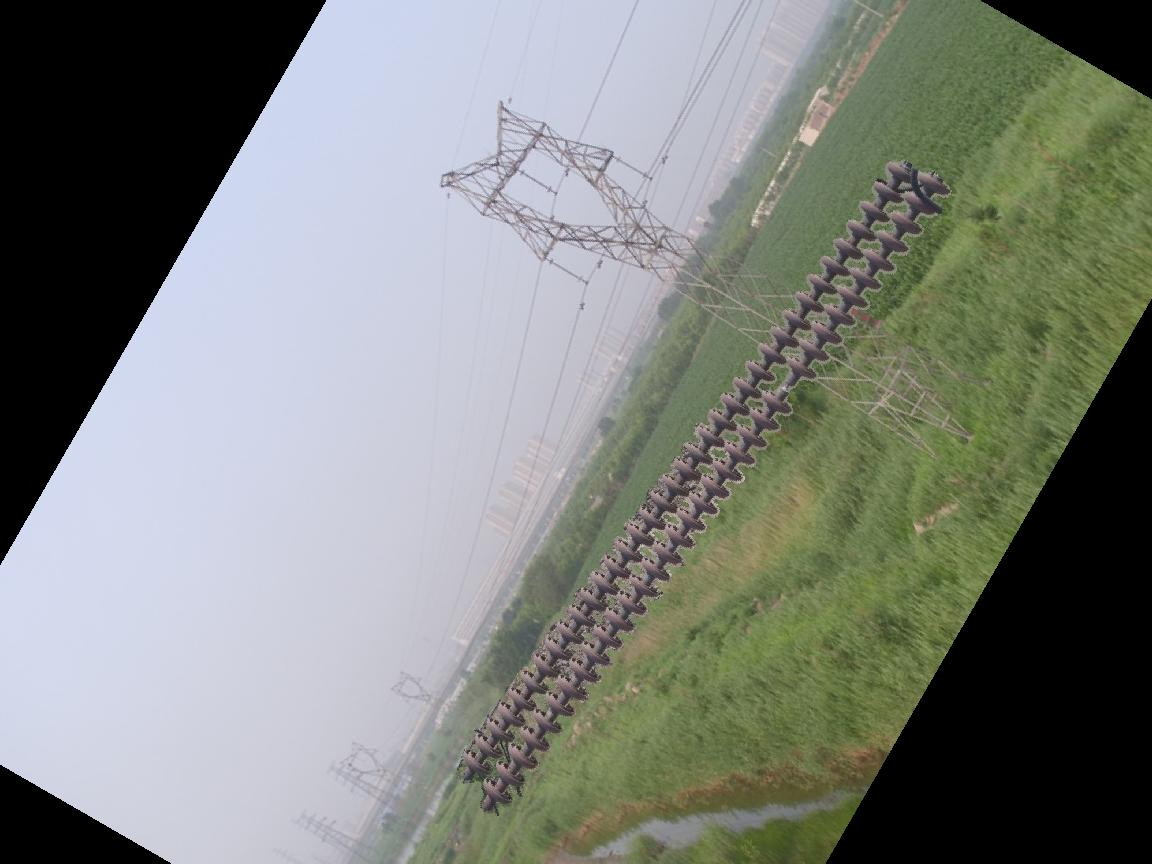insulator: (452, 147, 952, 816)
insulator_stringdrop: (760, 352, 820, 418)
